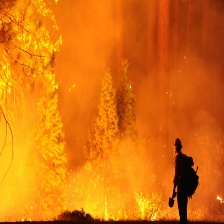fire: (77, 189, 165, 221)
smoke: (61, 17, 208, 183)
